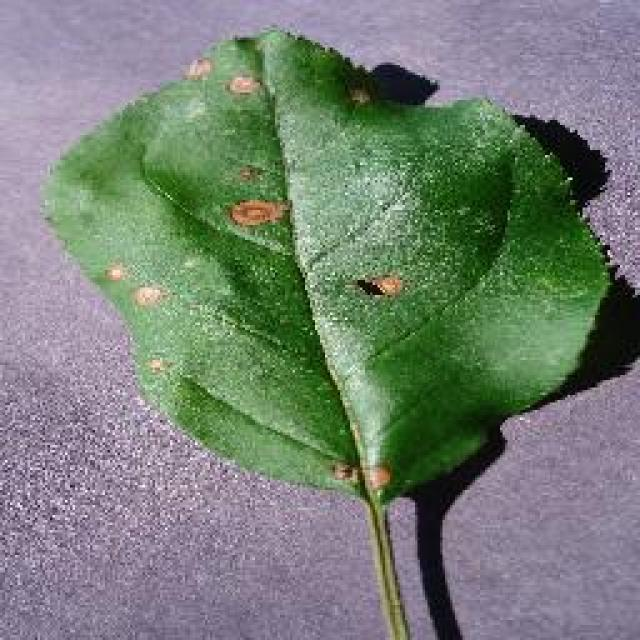Black_rot: (38, 22, 618, 638)
